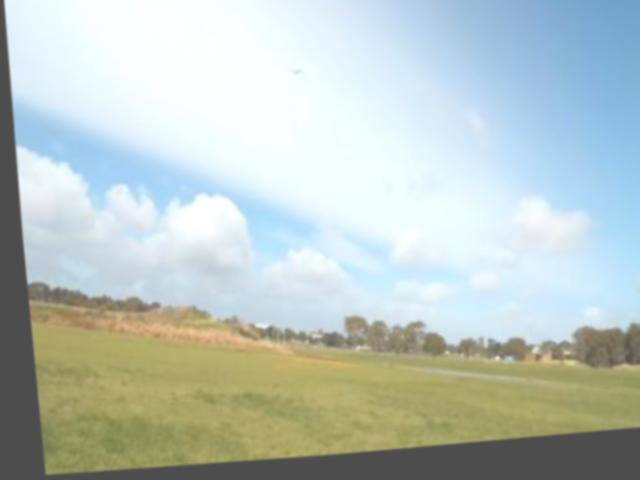uav: (283, 65, 309, 87)
